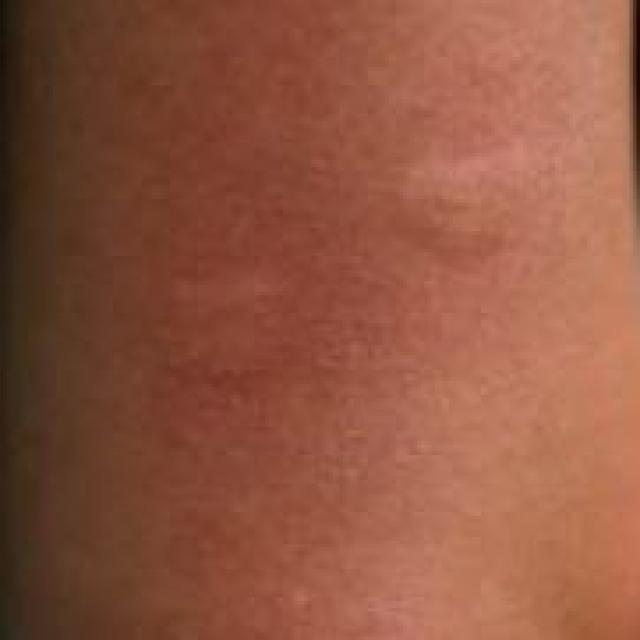sinek: (368, 121, 564, 318)
